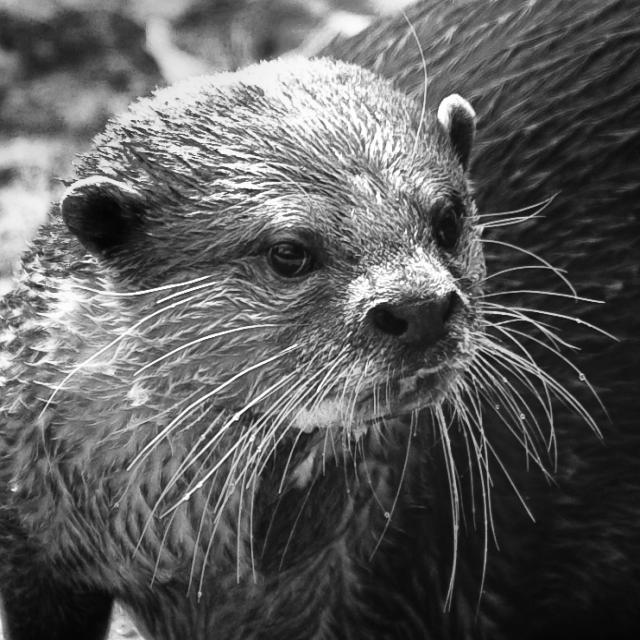otter: (1, 52, 497, 640)
